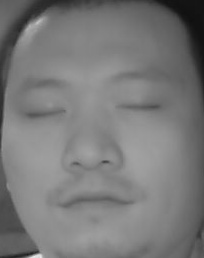blink: (115, 95, 160, 116), (26, 105, 64, 123)
mouth: (55, 183, 130, 221)
